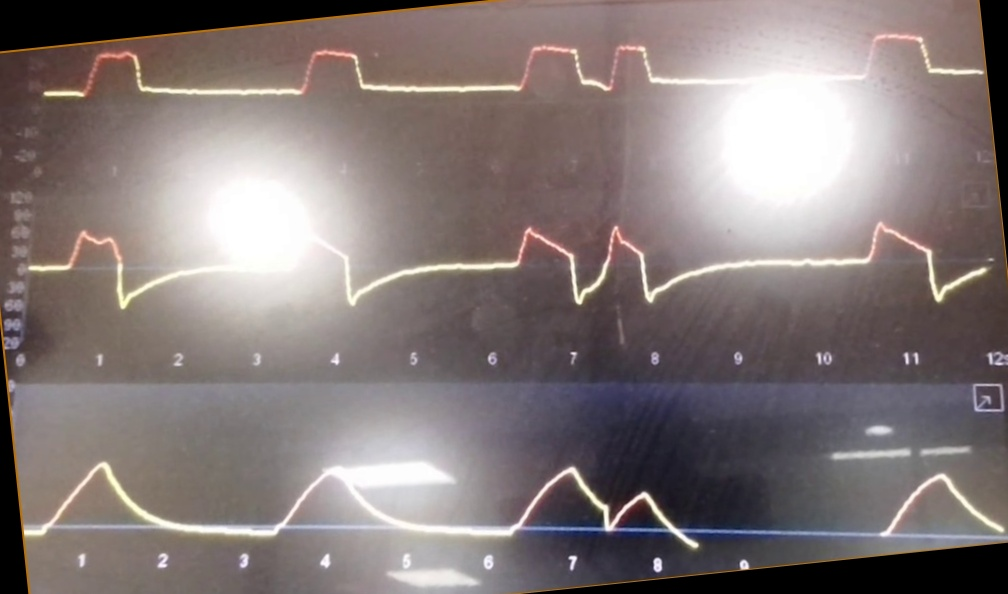Double_Triggering Flow: (31, 209, 988, 325)
Double_Triggering Volume: (27, 422, 1004, 548)
